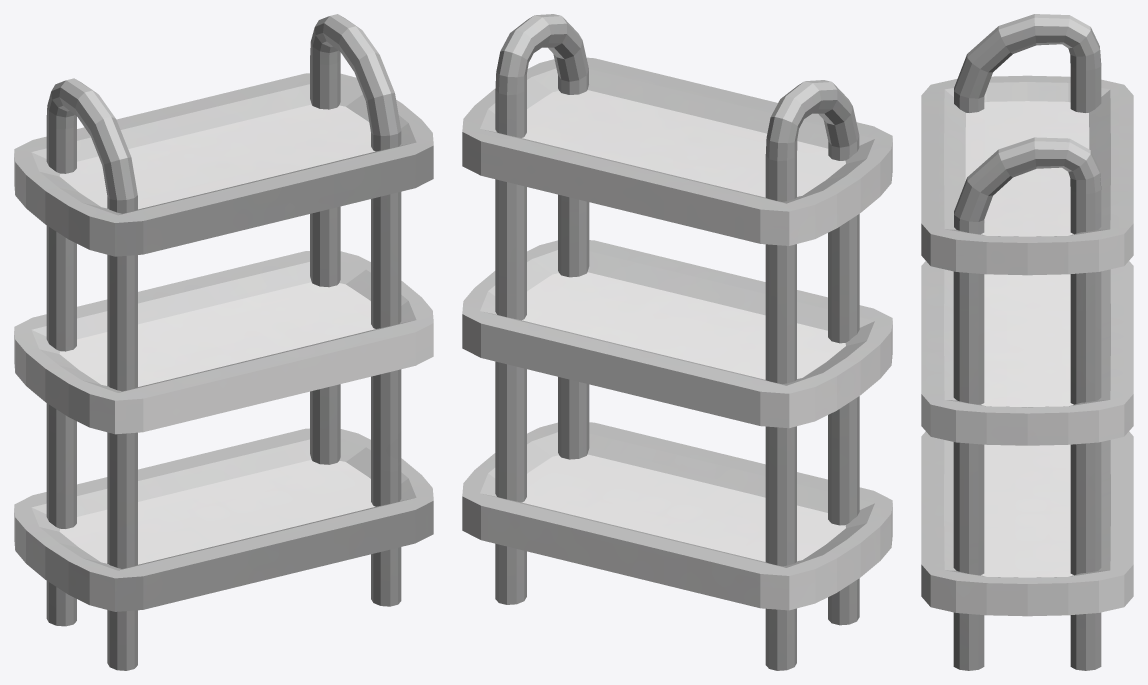
File: tray_1.glb
3 renders of one model, left to right at view 1: azimuth 30°, elevation 25°; view 2: azimuth 150°, elevation 25°; view 3: azimuth 270°, elevation 25°, orthographic. The views are drawn at different scales.
Visible parts, largest first — view 1: tray_1; view 2: tray_1; view 3: tray_1.
Part boxes in pixels (<box>): tray_1: <box>14,14,433,670</box>; tray_1: <box>462,14,892,670</box>; tray_1: <box>921,14,1133,670</box>.
Size of the model in its own units: 0.3878 by 0.5681 by 0.2082.
1 material, 1 textured.
